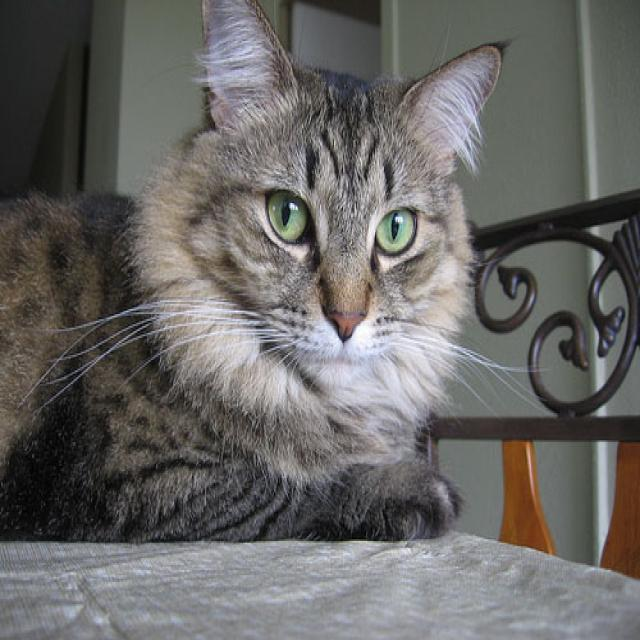Maine_Coon: (173, 0, 508, 390)
